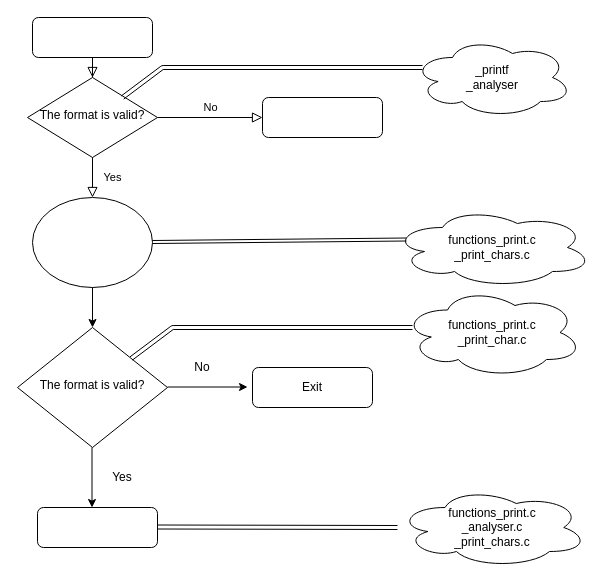
Image size: 610x585. Some labels were removed from this diagram. Each missing label, with the centre of its shape:
"Function to print" belongs at point (92, 37).
"Look for the function to operate" belongs at point (92, 242).
"Print" belongs at point (97, 527).
"Return error" belongs at point (322, 117).
